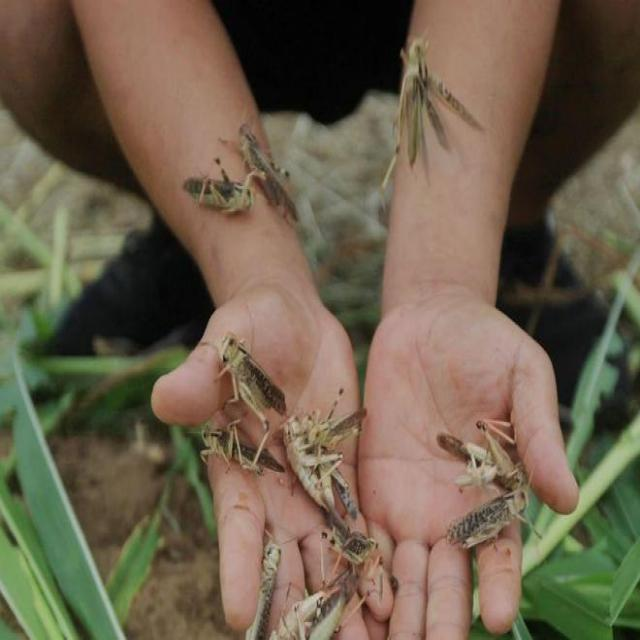ZhaMeng: (388, 33, 488, 218), (240, 117, 305, 236), (207, 334, 301, 413), (184, 425, 288, 485), (180, 155, 264, 221), (448, 480, 532, 544)
